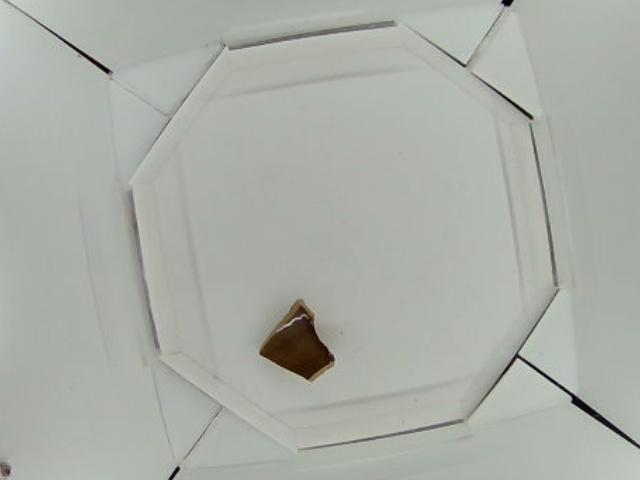China: (257, 298, 338, 386)
